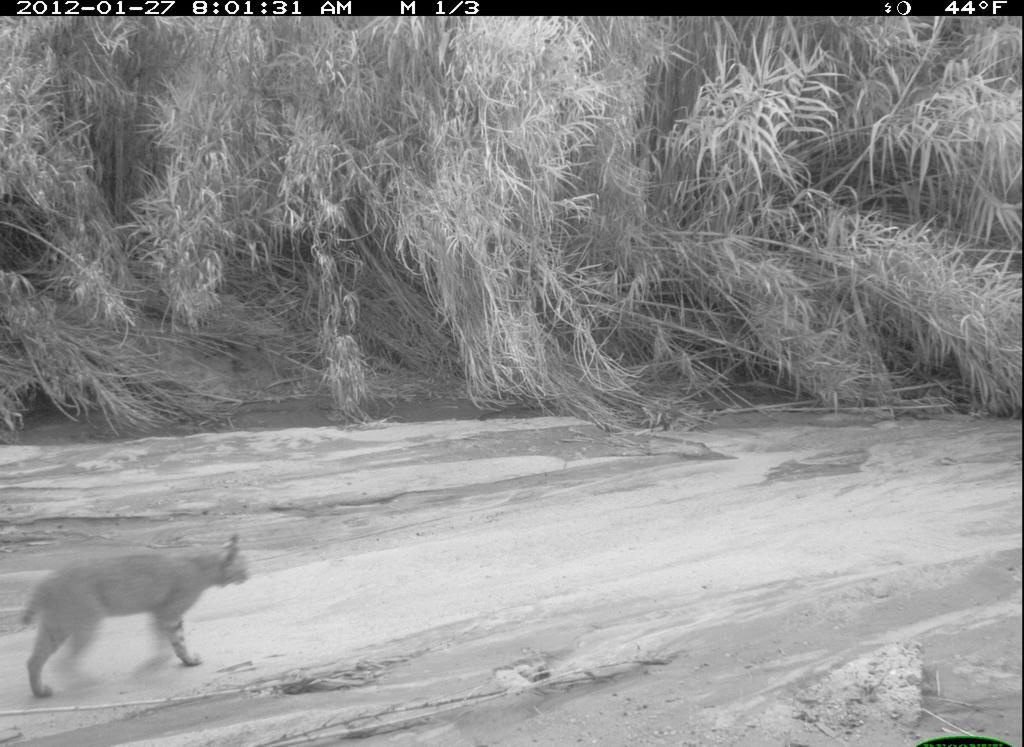bobcat: (20, 530, 262, 699)
